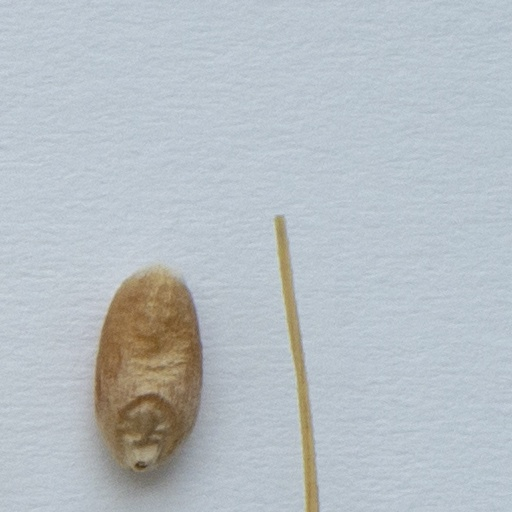Peel-poly: (271, 205, 327, 511)
